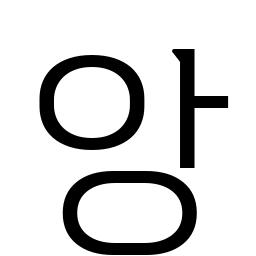Gaji: (160, 74, 216, 133)
